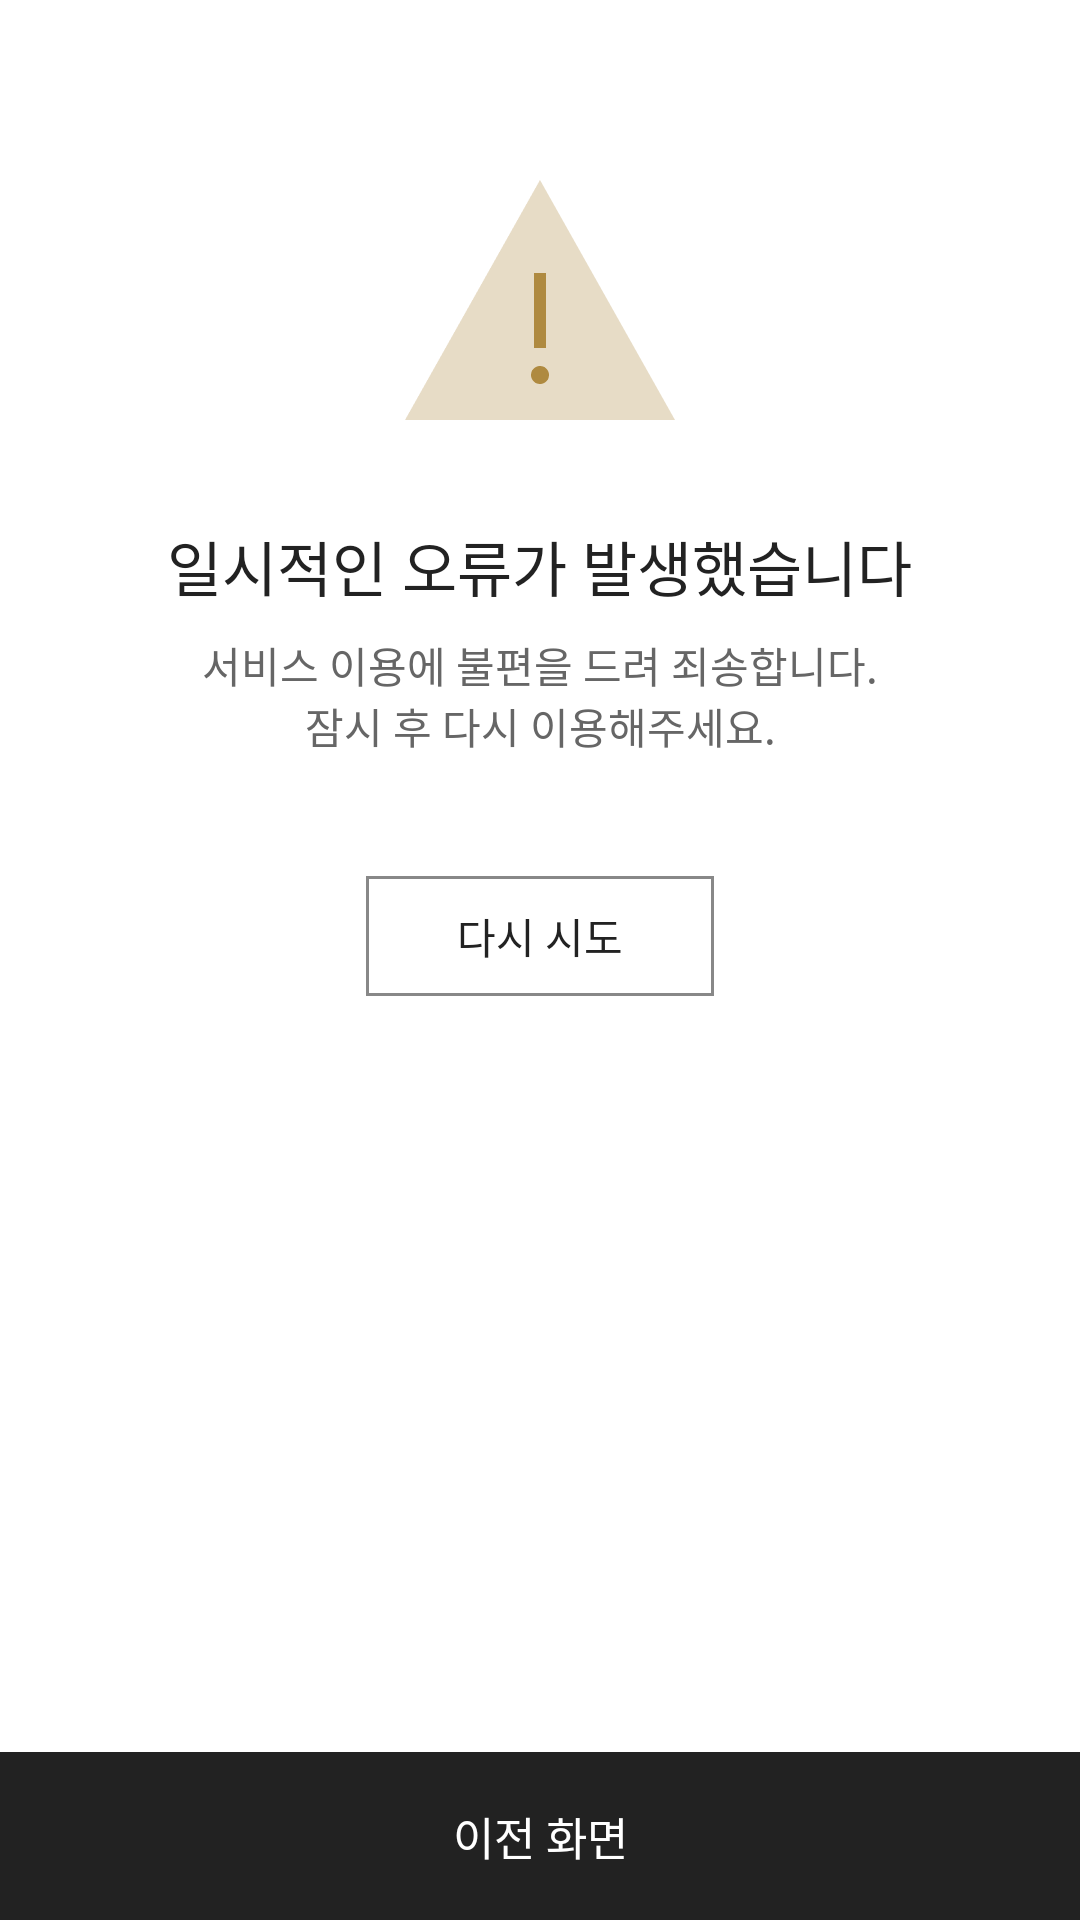

Icon bounding boxes for this 1080x1920 phone screenshot, format (x1, y1, x2, y2):
error: (405, 181, 675, 420)
